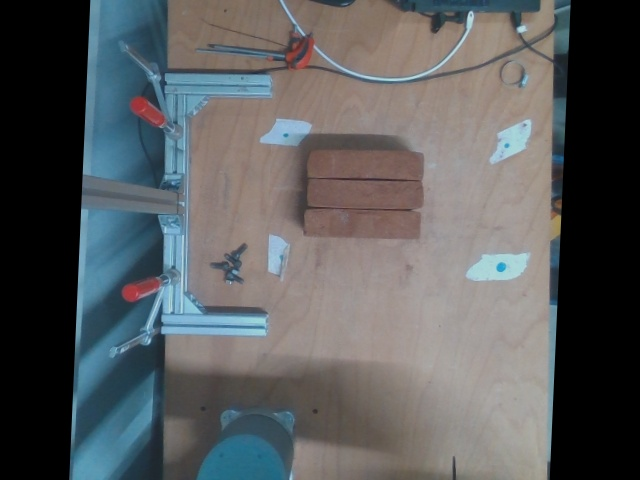brick-side: (303, 208, 420, 240), (306, 179, 422, 209), (308, 149, 425, 178)
